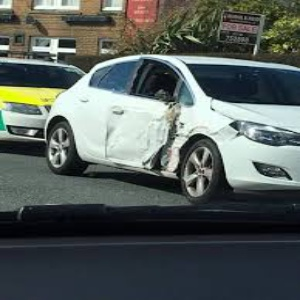door: (105, 100, 182, 176)
